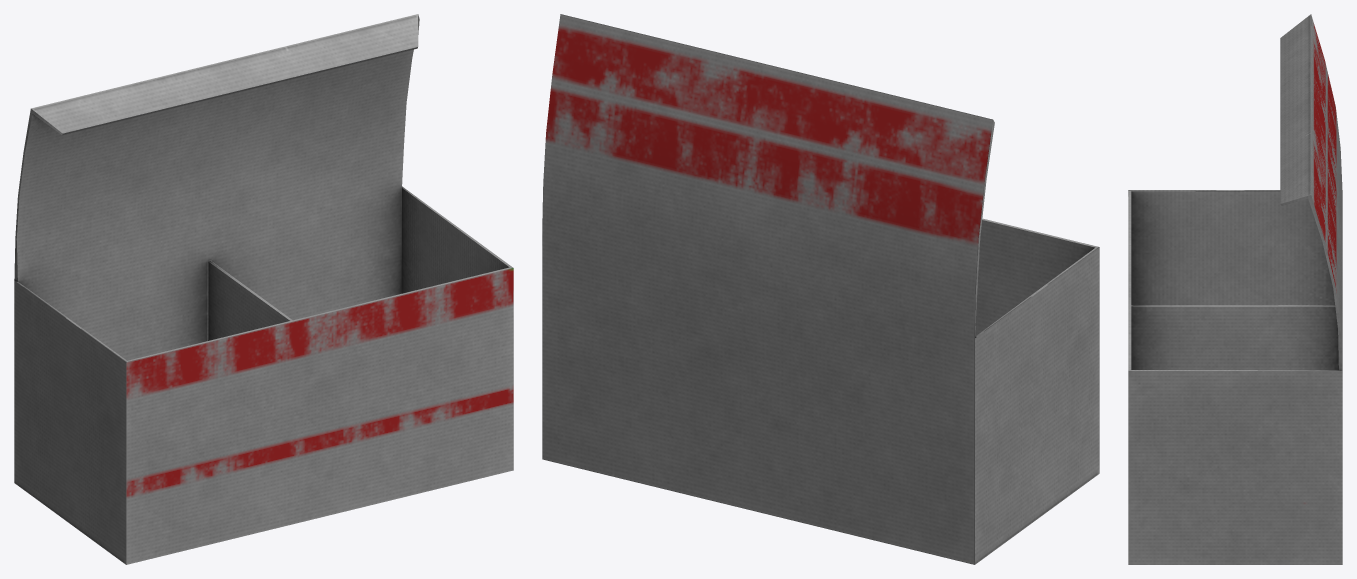
Rendered from props_1.fbx.
3 views of the same model, side by side, from view 1: azimuth 30°, elevation 25°; view 2: azimuth 150°, elevation 25°; view 3: azimuth 270°, elevation 25° (orthographic). The views are drawn at different scales.
Parts seen in each view (by area): view 1: props_1; view 2: props_1; view 3: props_1.
Part boxes in pixels (x1=…): props_1: x1=14, y1=14, x2=513, y2=564; props_1: x1=542, y1=14, x2=1099, y2=564; props_1: x1=1128, y1=14, x2=1342, y2=564.
Size of the model in its own units: 20 by 19.08 by 10.
